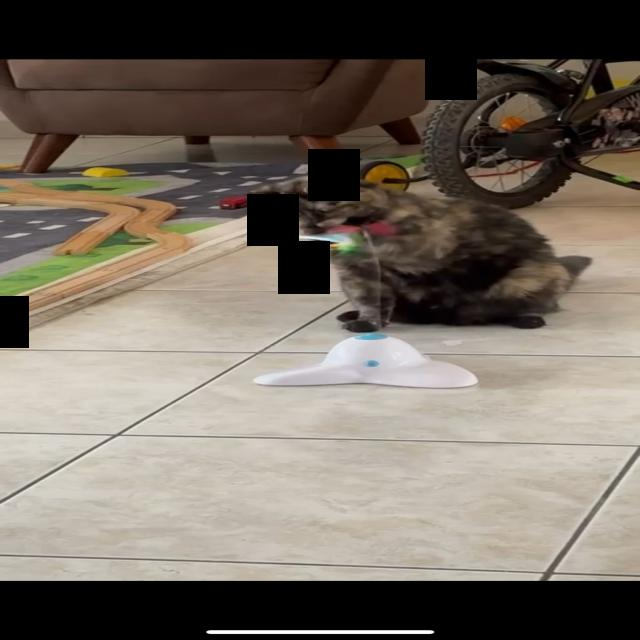authorized: (245, 173, 592, 333)
